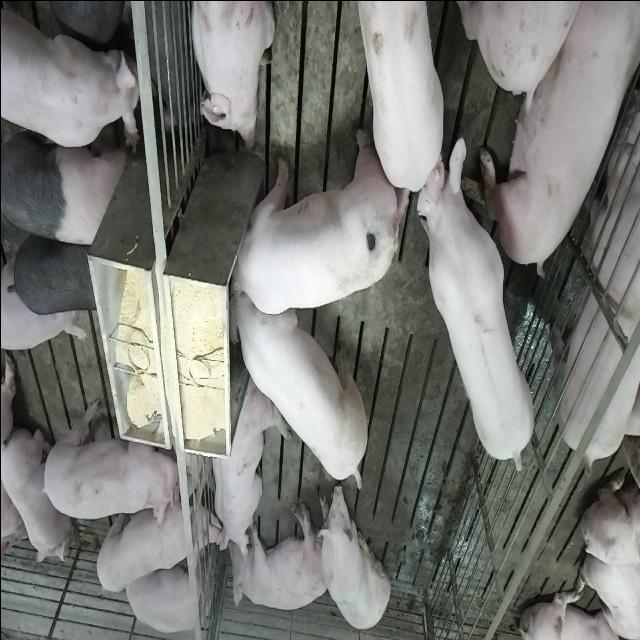Feeding: (220, 127, 398, 316), (230, 285, 372, 497)
Lateral_lying: (226, 500, 330, 610)
Sitting: (315, 480, 390, 632)
Standing: (414, 129, 535, 473), (543, 64, 640, 472), (2, 0, 141, 151), (38, 394, 178, 523), (350, 0, 441, 190), (2, 122, 128, 248), (6, 228, 104, 316)
Sternal_lying: (207, 372, 284, 554), (188, 0, 274, 150), (1, 419, 68, 566)
